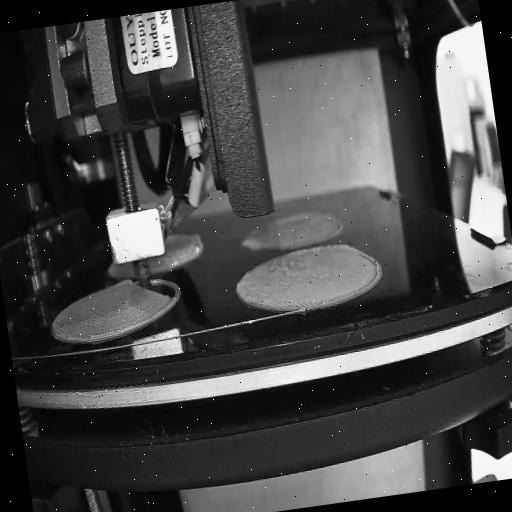over_extrusion: (358, 241, 386, 294), (116, 278, 136, 290)
